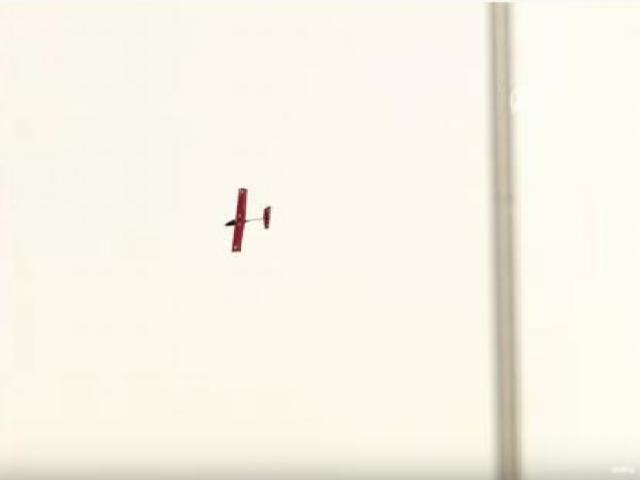uav: (225, 187, 272, 255)
